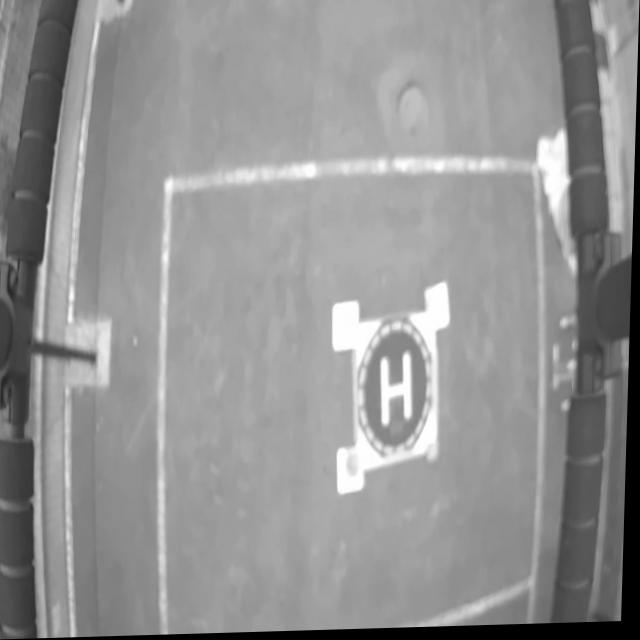Helipad: (382, 356, 416, 430)
